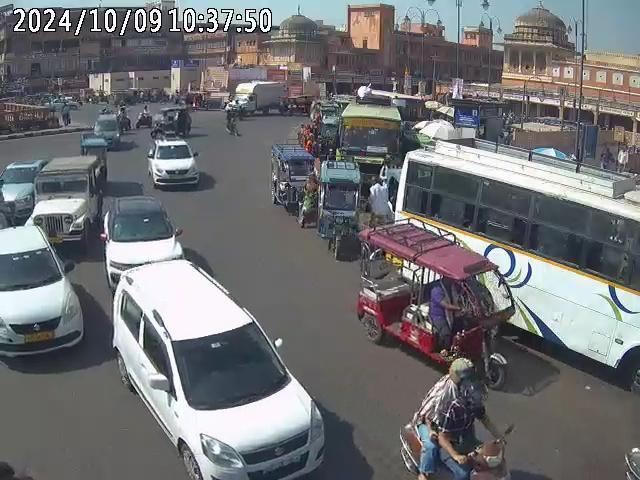auto: (355, 217, 515, 383), (314, 154, 365, 258), (268, 142, 316, 215), (79, 135, 109, 183)
bus: (393, 140, 639, 386), (339, 100, 404, 169)
car: (110, 256, 327, 479), (0, 220, 86, 362), (101, 192, 186, 287), (29, 155, 101, 250), (0, 159, 44, 225), (146, 137, 199, 188), (94, 109, 121, 149)
helmet: (462, 377, 492, 411), (449, 357, 477, 386)
license_plate: (26, 330, 58, 344)
lorry: (232, 81, 287, 117)
motorbike-rider: (400, 355, 514, 479)
person: (367, 176, 392, 224), (296, 121, 313, 150), (600, 144, 617, 173)
